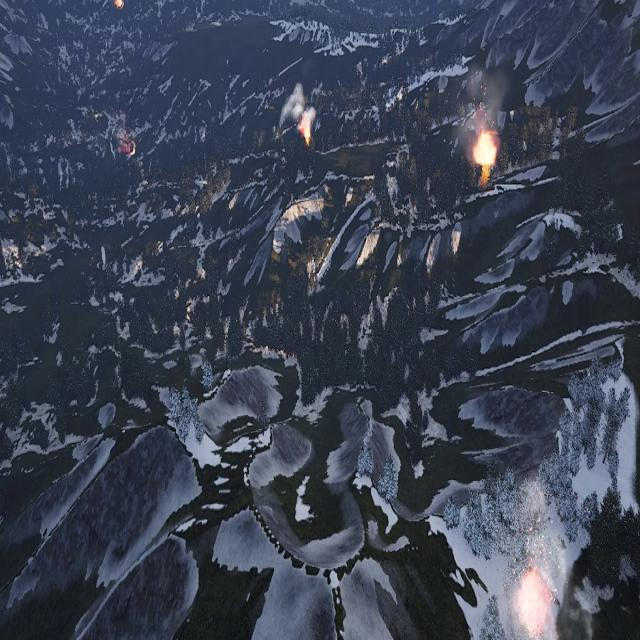fire: (475, 132, 498, 169), (301, 116, 313, 145), (122, 136, 138, 157), (113, 0, 123, 7)
smoke: (513, 458, 605, 639), (452, 58, 512, 155), (279, 83, 315, 130)
